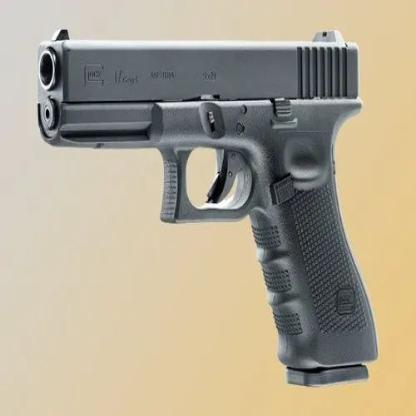handgun: (29, 22, 390, 388)
